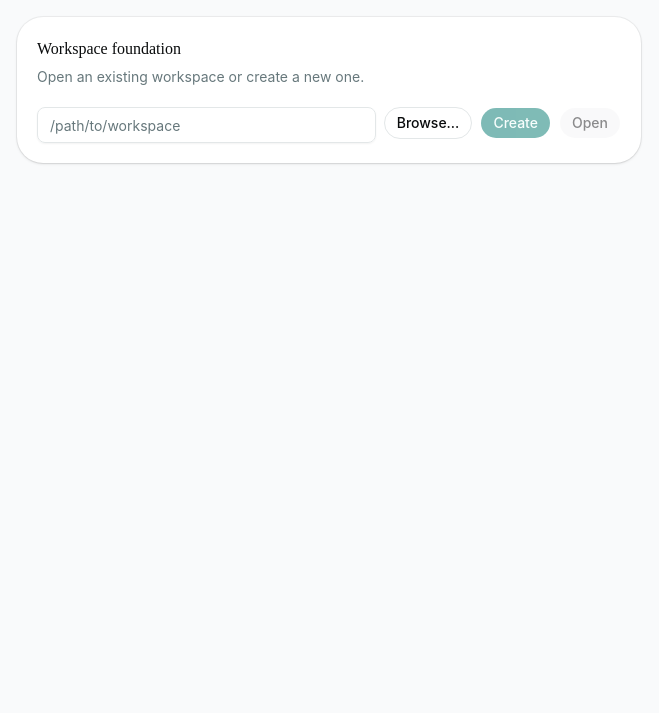
Test: WorkspaceFoundationPanel › offers the metamodel authoring palette once a workspace is open
This screenshot has width=659, height=713.
Type "/Users/demo/workspaces/demo" into the field named "Workspace folder" at [206, 125], box [37,107,376,143]
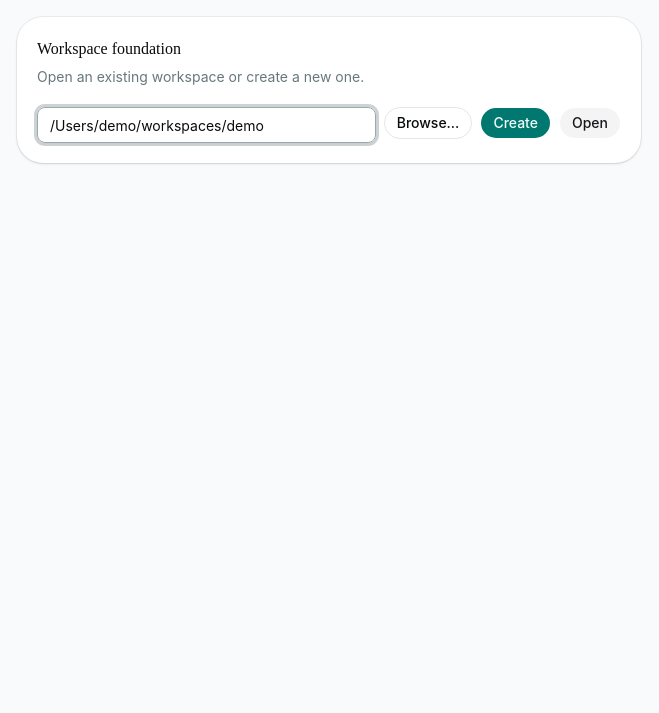
Click the button "Create" at [516, 123], box [480,107,551,139]
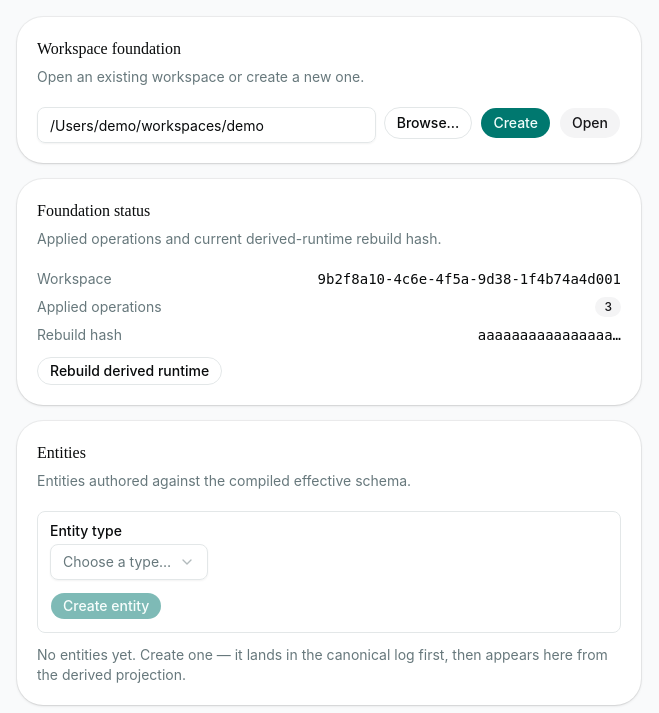
Now the text "No entities yet" is shown, box [37,646,608,683]
Now the dropdown named "Entity type" is shown, box [50,544,208,580]
Now the button "Create entity" is disabled, box [50,592,162,620]
